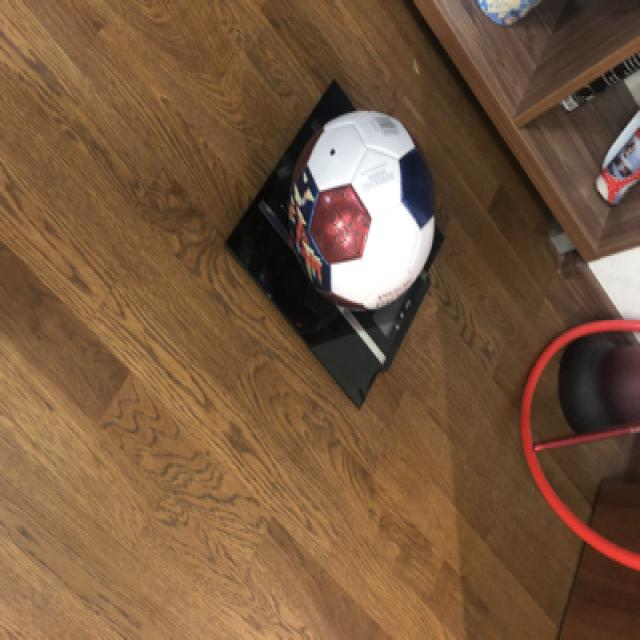soccer_ball: (283, 107, 435, 307)
